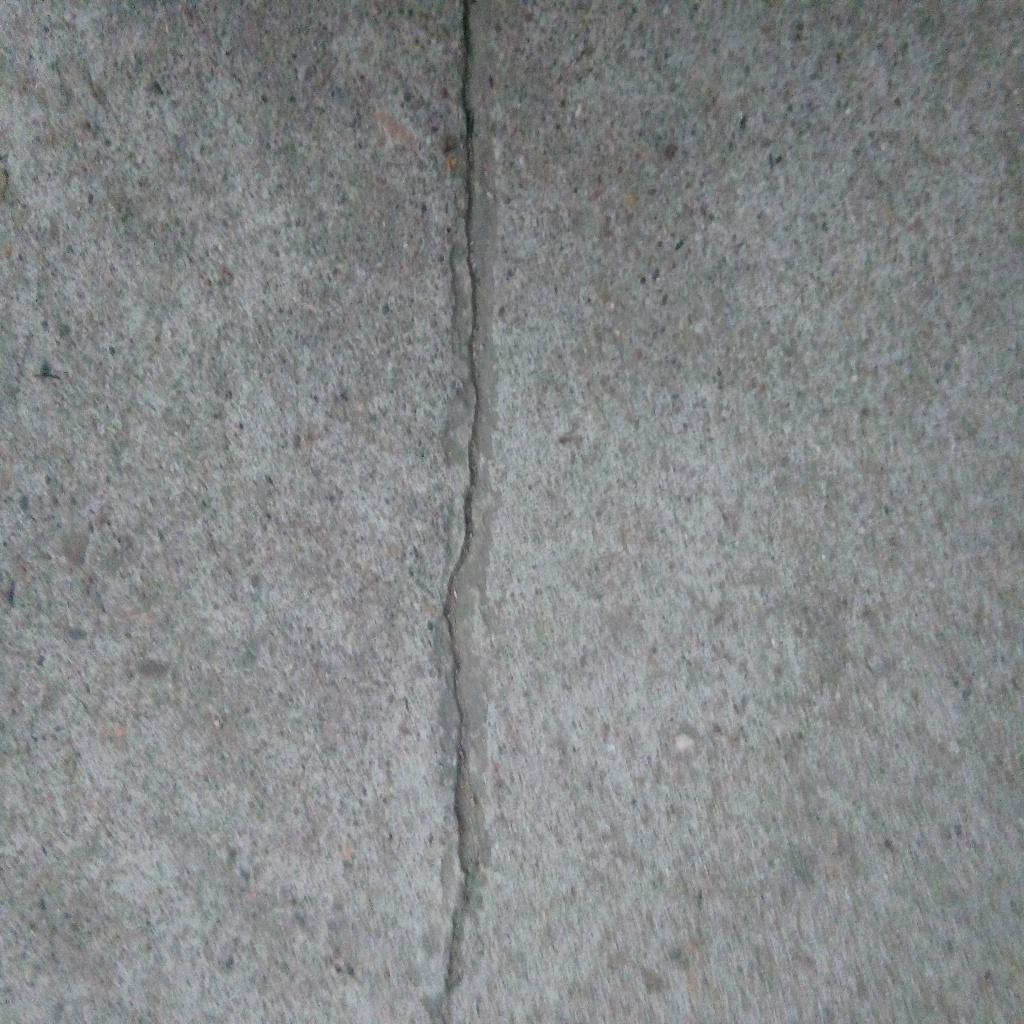Crack: (440, 1, 498, 1024)
